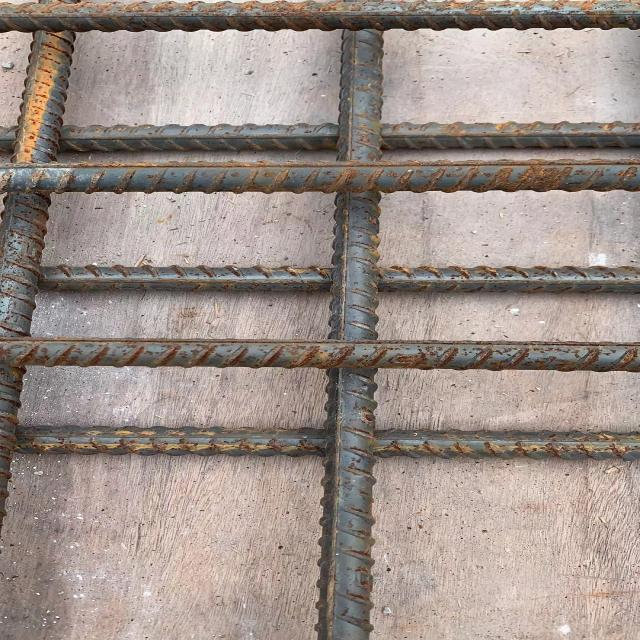ribbed bar: (288, 30, 394, 639), (0, 30, 79, 532), (14, 423, 639, 463), (0, 157, 639, 196), (0, 338, 639, 374), (0, 0, 639, 33), (0, 121, 639, 154), (37, 264, 639, 296)
